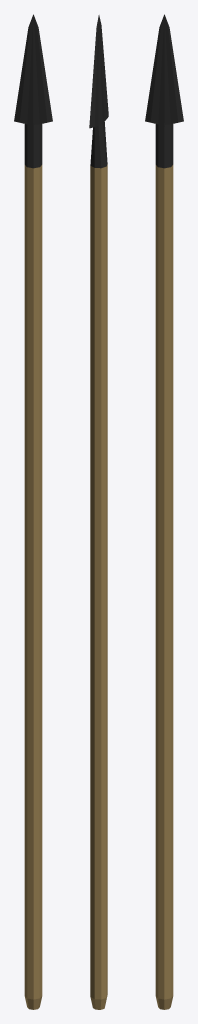
Rendered from WoodenThrowingSpear.fbx.
The picture shows the model from 3 angles, left to right: view 1: azimuth 90°, elevation 25°; view 2: azimuth 150°, elevation 25°; view 3: azimuth 270°, elevation 25°; orthographic projection.
Parts seen in each view (by area): view 1: WoodenThrowingSpear; view 2: WoodenThrowingSpear; view 3: WoodenThrowingSpear.
Part boxes in pixels (box(x1,y1,x2,y2)): WoodenThrowingSpear: box(14, 14, 52, 1009); WoodenThrowingSpear: box(89, 15, 108, 1009); WoodenThrowingSpear: box(145, 14, 183, 1009).
Size of the model in its own units: 3.53 by 218 by 7.75.
